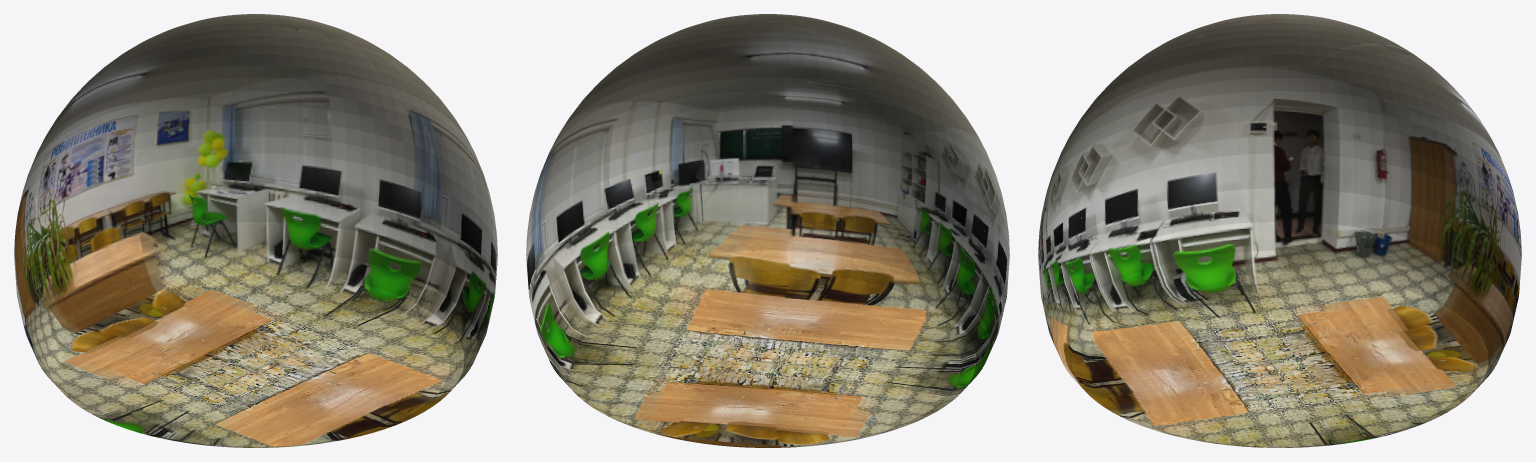
File: oficina.glb
The picture shows the model from 3 angles, left to right: view 1: azimuth 30°, elevation 25°; view 2: azimuth 150°, elevation 25°; view 3: azimuth 270°, elevation 25°; orthographic projection.
Size of the model in its own units: 2 by 1.5 by 2.
Materials: 1 (1 with a texture image).
